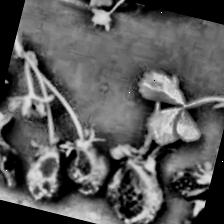Anthracnose Fruit Rot: (101, 158, 171, 224), (20, 148, 72, 205), (166, 161, 212, 205), (0, 130, 27, 187), (64, 147, 98, 185), (178, 199, 205, 224)
